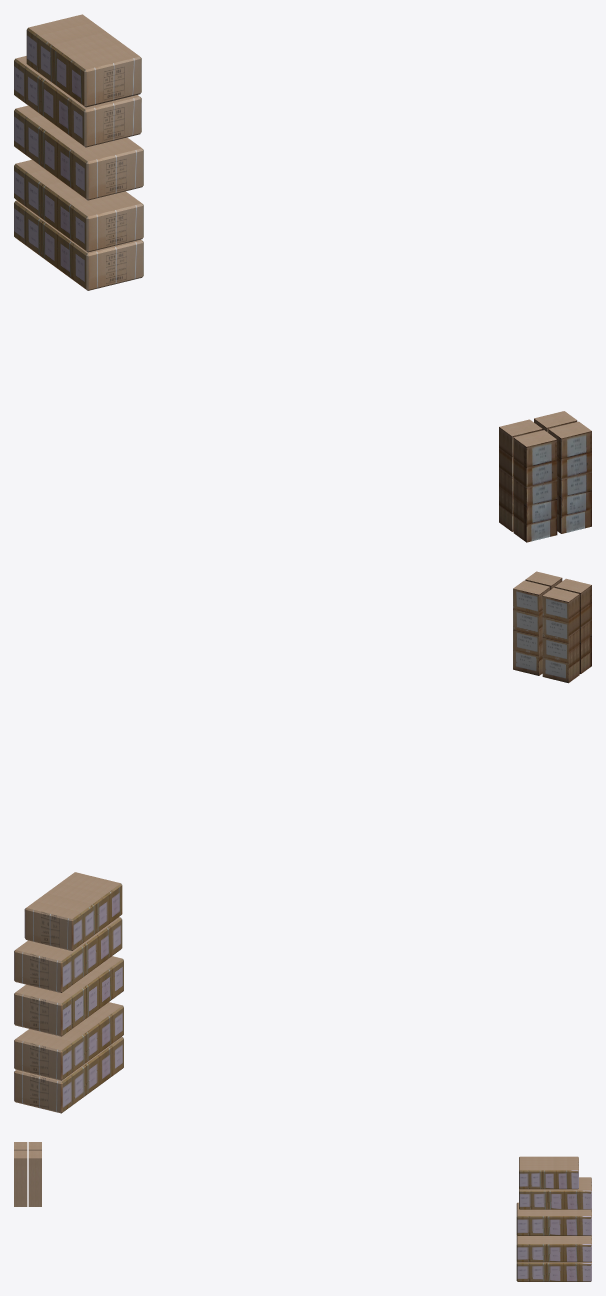
Rendered from shoudiantong.FBX.
The picture shows the model from 3 angles, top to bottom: view 1: azimuth 30°, elevation 25°; view 2: azimuth 150°, elevation 25°; view 3: azimuth 270°, elevation 25°; orthographic projection. The views are drawn at different scales.
Parts seen in each view (by area): view 1: Box9086, 对象35; view 2: Box9086, 对象35; view 3: Box9086, 对象35.
Part boxes in pixels (<box>): Box9086: <box>14,14,143,290</box>; 对象35: <box>499,411,591,542</box>; Box9086: <box>14,872,123,1113</box>; 对象35: <box>513,571,591,683</box>; Box9086: <box>516,1156,591,1281</box>; 对象35: <box>14,1142,41,1206</box>.
Bounding box in the file's own units: 1.45 × 12.64 × 2.71.
